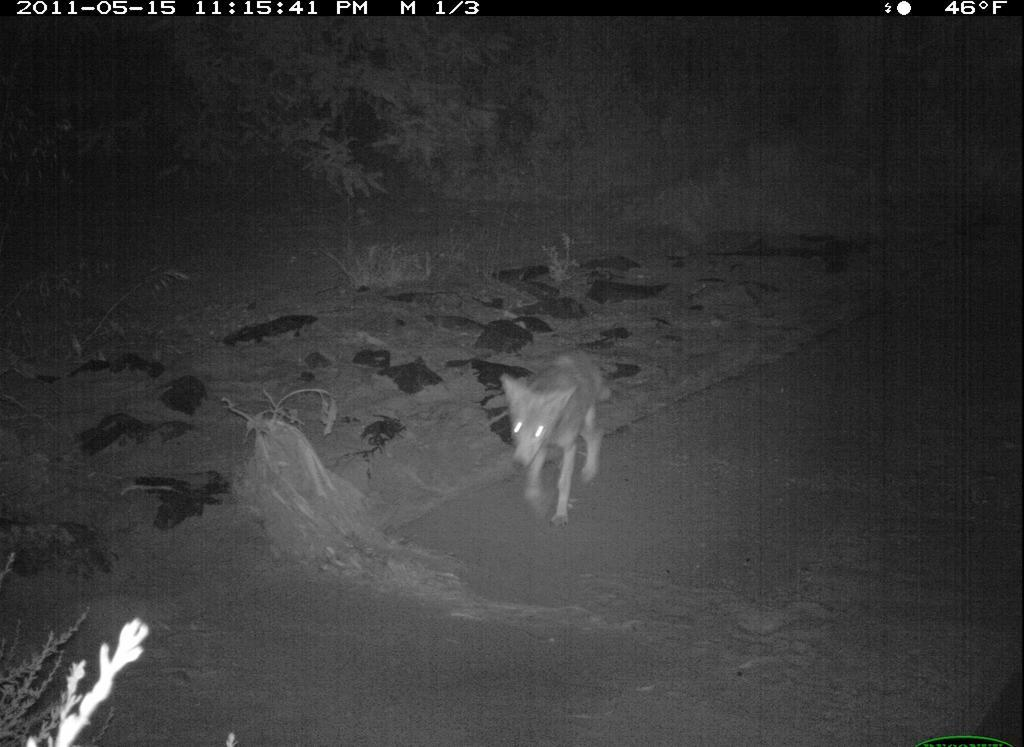coyote: (495, 345, 617, 533)
